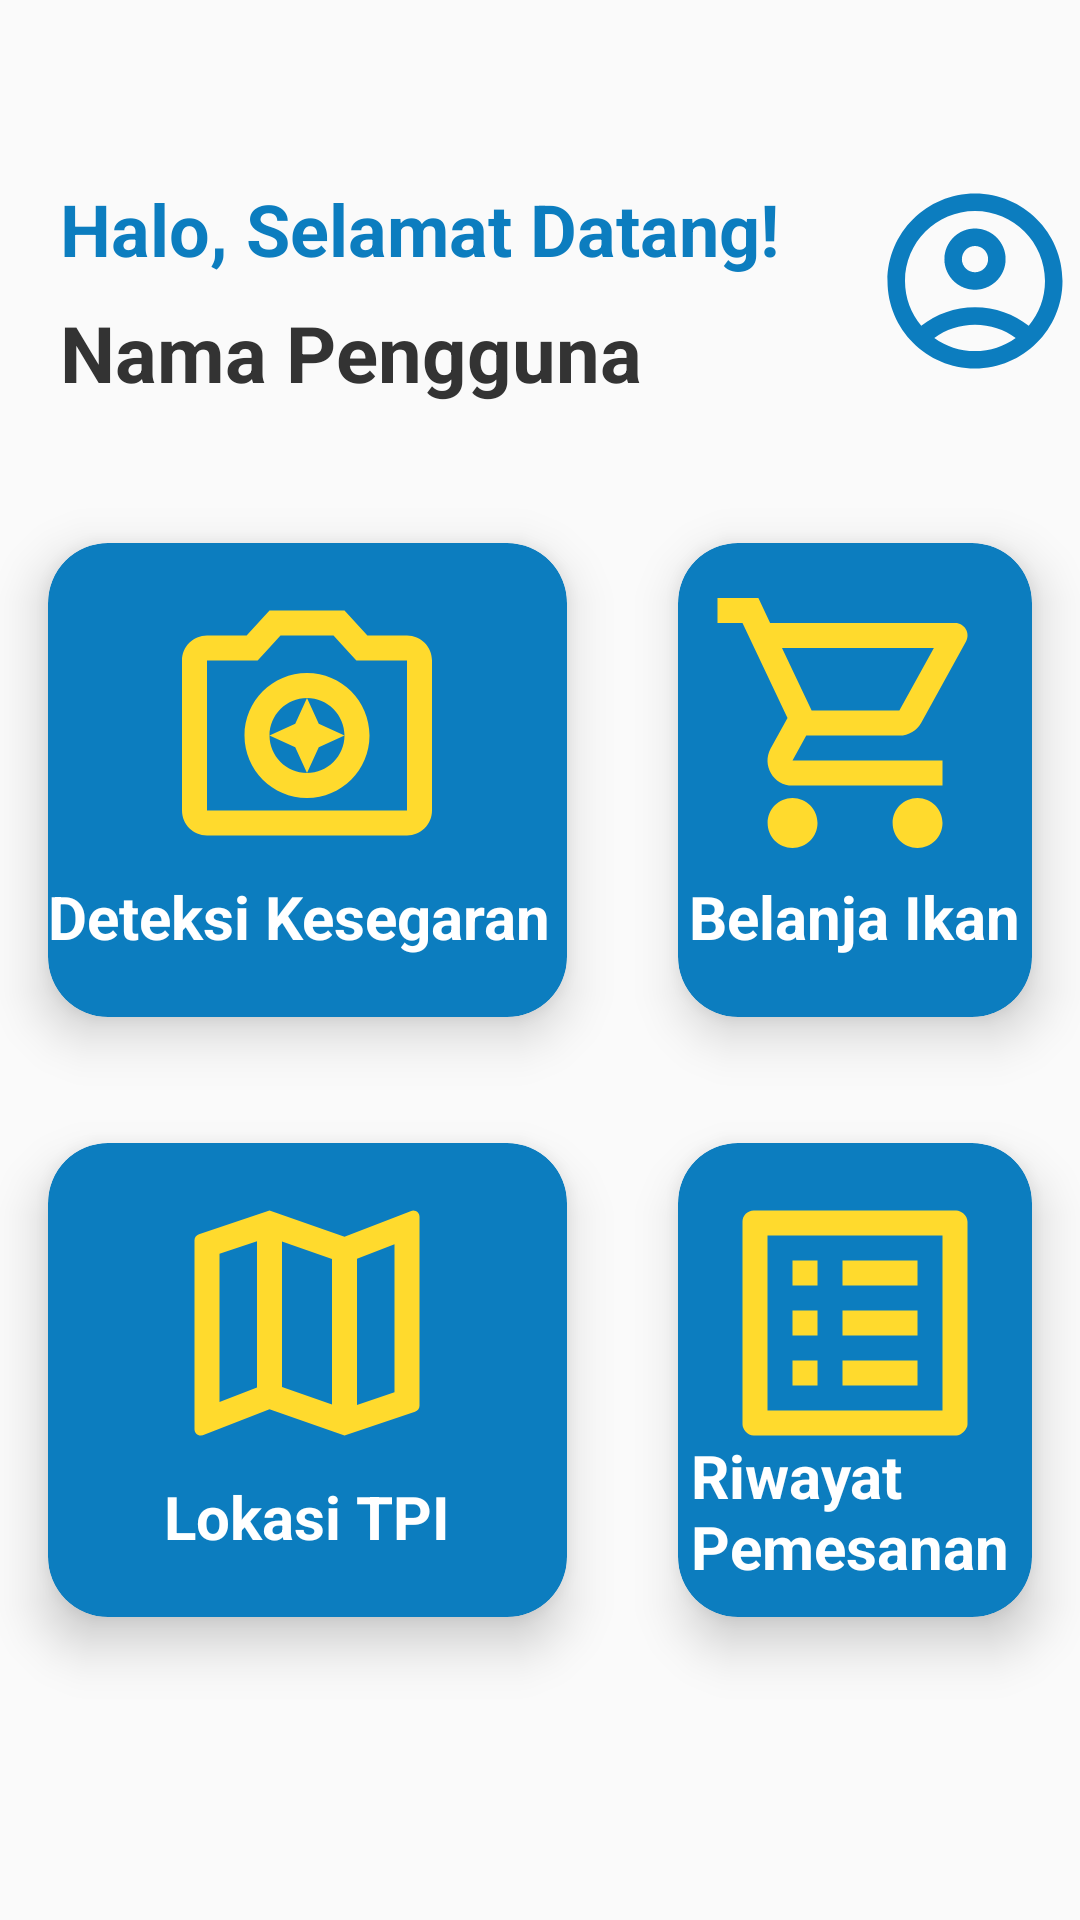

Icon click points for this 1080 x 1920 phone screenshot, format (x=x, y=y):
akun: (x=975, y=281)
